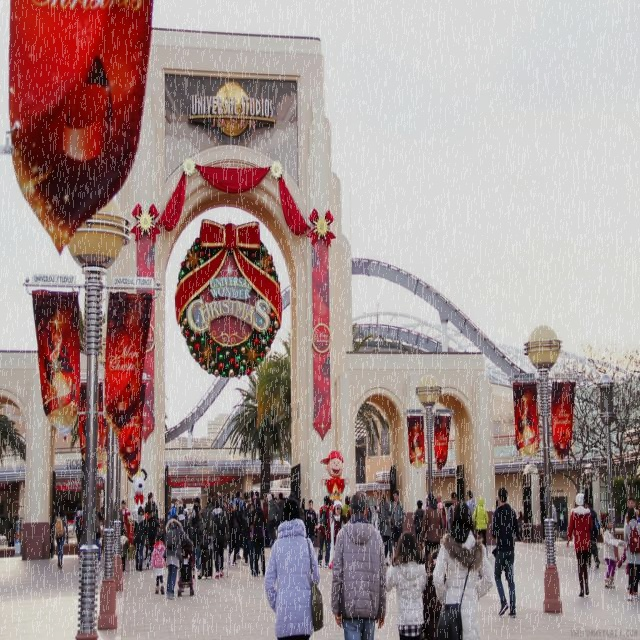pessoa: (329, 487, 389, 639), (431, 498, 495, 640), (262, 494, 324, 640), (386, 530, 428, 639), (490, 486, 520, 620), (564, 490, 594, 600), (162, 514, 194, 602), (314, 499, 348, 572), (418, 491, 444, 584), (422, 547, 443, 639), (207, 497, 230, 580), (600, 518, 626, 590), (248, 496, 268, 580), (318, 448, 350, 498), (623, 506, 639, 604), (50, 502, 70, 571), (314, 493, 332, 569), (244, 502, 262, 577), (583, 496, 601, 570), (471, 496, 491, 562), (190, 504, 206, 581), (131, 504, 149, 572), (150, 532, 168, 596), (389, 488, 406, 552), (300, 498, 320, 550), (379, 493, 392, 567), (227, 500, 241, 566), (265, 492, 281, 548), (241, 496, 253, 566), (146, 510, 162, 560), (70, 503, 84, 559), (240, 496, 252, 560), (116, 526, 130, 572), (168, 493, 191, 520), (177, 504, 193, 542), (623, 494, 639, 530), (142, 491, 160, 521), (413, 500, 425, 544), (447, 490, 459, 530), (120, 498, 132, 537), (436, 500, 448, 536), (201, 493, 213, 527), (274, 491, 285, 528), (5, 522, 16, 556), (464, 489, 476, 518), (96, 508, 102, 565), (341, 494, 352, 524), (550, 501, 558, 542), (260, 491, 268, 525), (435, 492, 446, 516), (252, 490, 264, 512), (373, 497, 380, 532), (232, 489, 243, 511), (119, 501, 125, 538), (220, 490, 231, 510), (560, 501, 568, 526), (517, 510, 523, 542), (192, 493, 200, 510), (286, 489, 297, 499), (366, 506, 372, 524), (299, 505, 305, 522), (423, 494, 428, 511), (212, 490, 220, 500), (441, 504, 446, 514), (249, 491, 255, 498), (433, 497, 438, 505)
